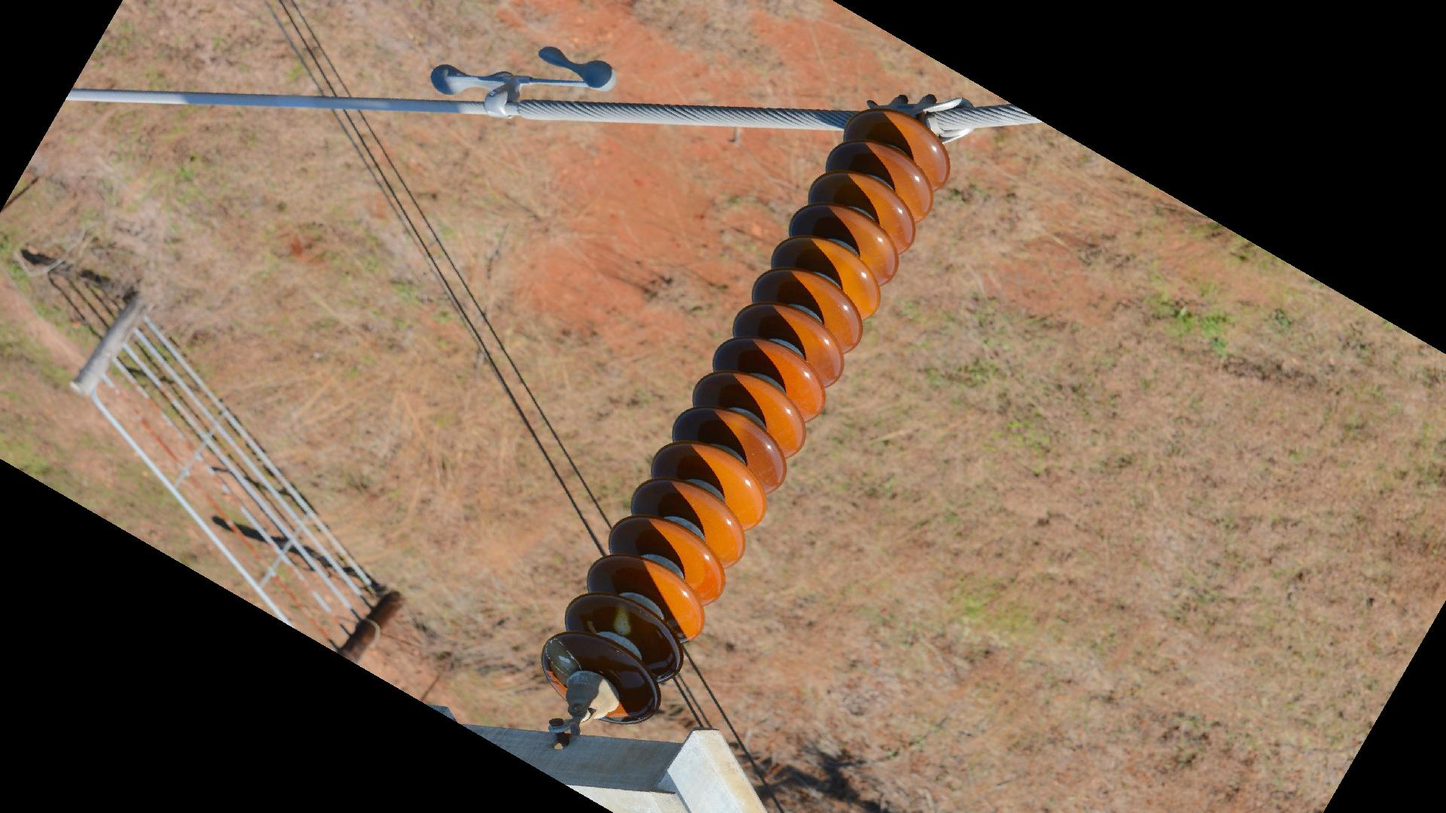insulator: (535, 101, 956, 731)
insulator_flashover: (542, 636, 583, 682), (611, 601, 633, 638)
